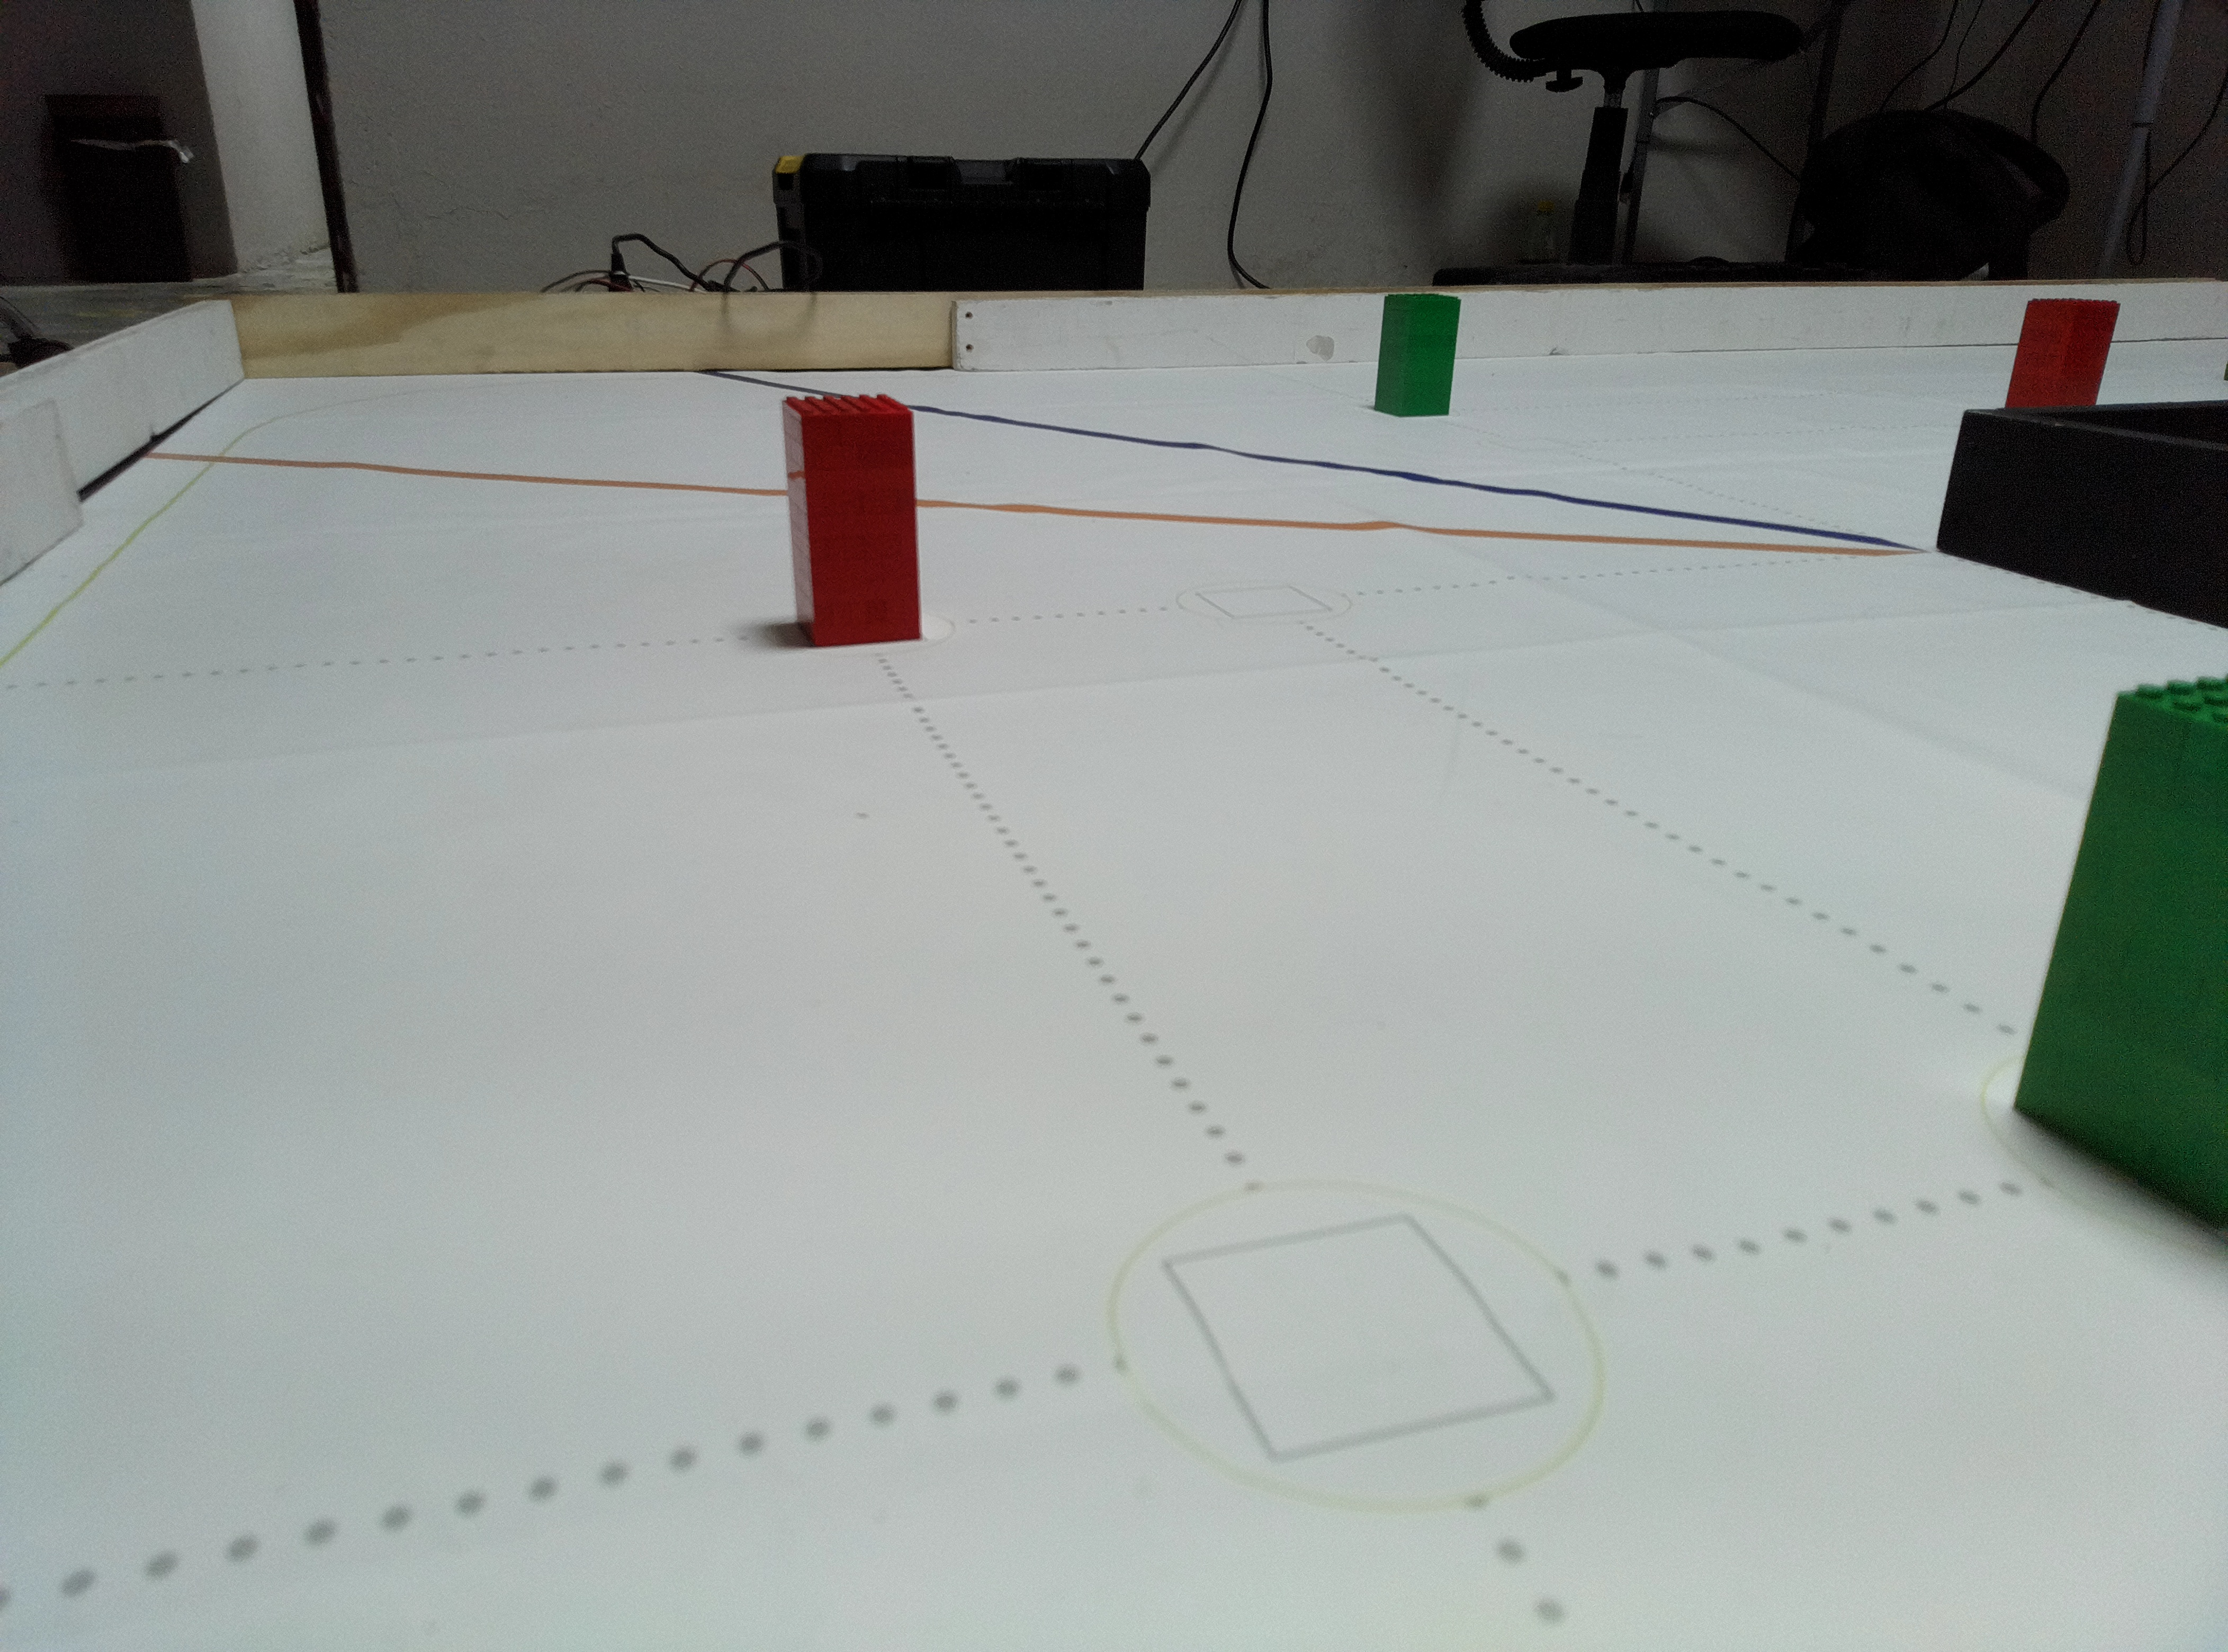greenbox: (1983, 673, 2228, 1244), (1373, 290, 1465, 418)
redbox: (777, 390, 923, 651), (2002, 297, 2124, 410)
